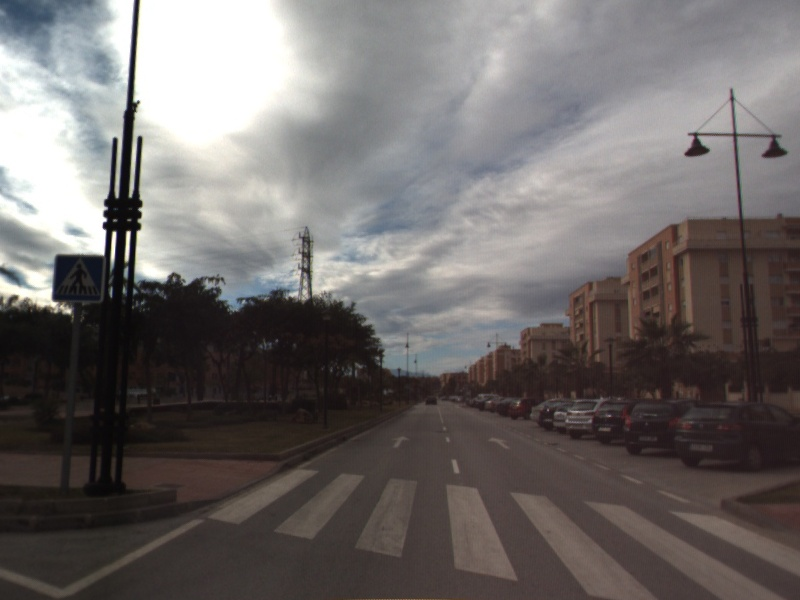STRAIGHT: (486, 435, 512, 451), (389, 434, 412, 450)
